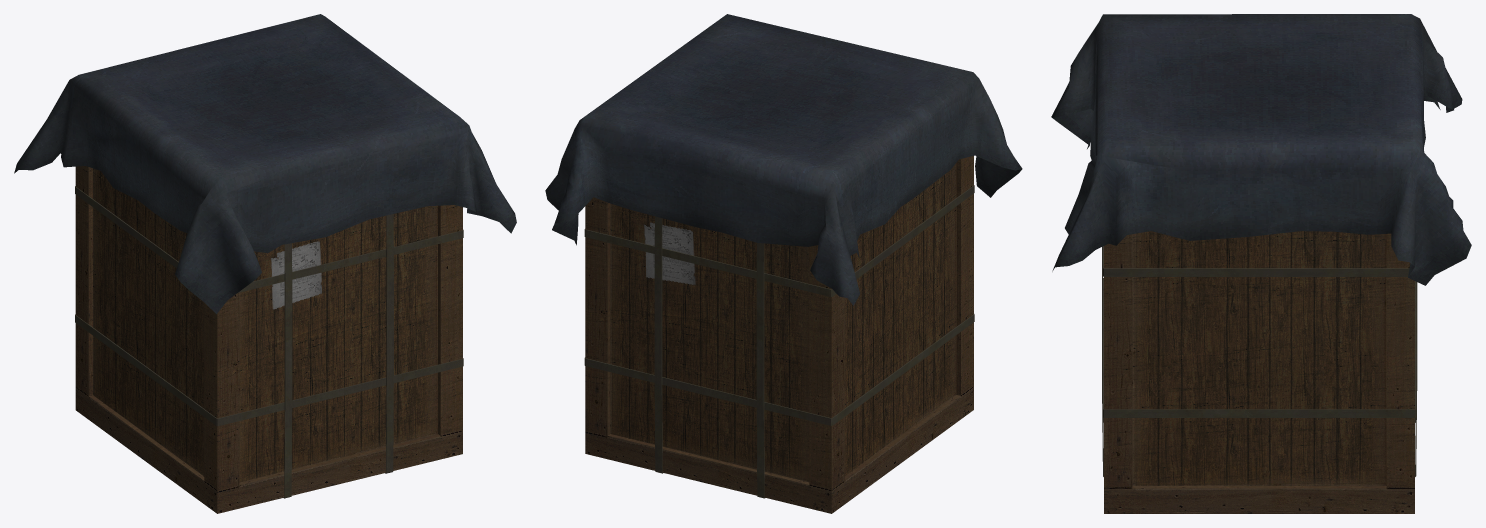
The model's file is wooden_crate_hx_2_2.glb.
3 views of the same model, side by side, from view 1: azimuth 30°, elevation 25°; view 2: azimuth 150°, elevation 25°; view 3: azimuth 270°, elevation 25° (orthographic). The views are drawn at different scales.
Parts seen in each view (by area): view 1: wooden_crate_hx_2_2; view 2: wooden_crate_hx_2_2; view 3: wooden_crate_hx_2_2.
Boxes of the visible parts, bbox=[...] form: wooden_crate_hx_2_2: bbox=[14, 14, 516, 513]; wooden_crate_hx_2_2: bbox=[545, 14, 1022, 513]; wooden_crate_hx_2_2: bbox=[1051, 14, 1471, 513].
Bounding box in the file's own units: 1.89 × 1.84 × 1.89.
3 materials, 3 textured.
